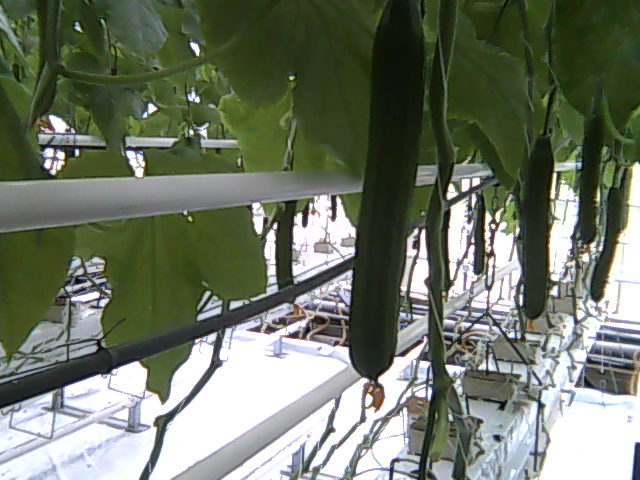concombre: (339, 1, 431, 409), (516, 122, 558, 335)
